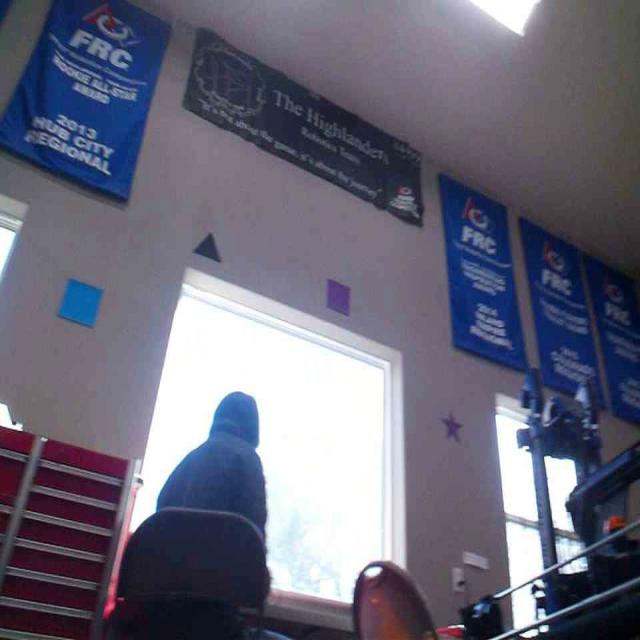square_blue: (54, 276, 103, 326)
square_purple: (325, 276, 351, 314)
star_purple: (440, 409, 462, 442)
triangle_black: (191, 230, 220, 262)
